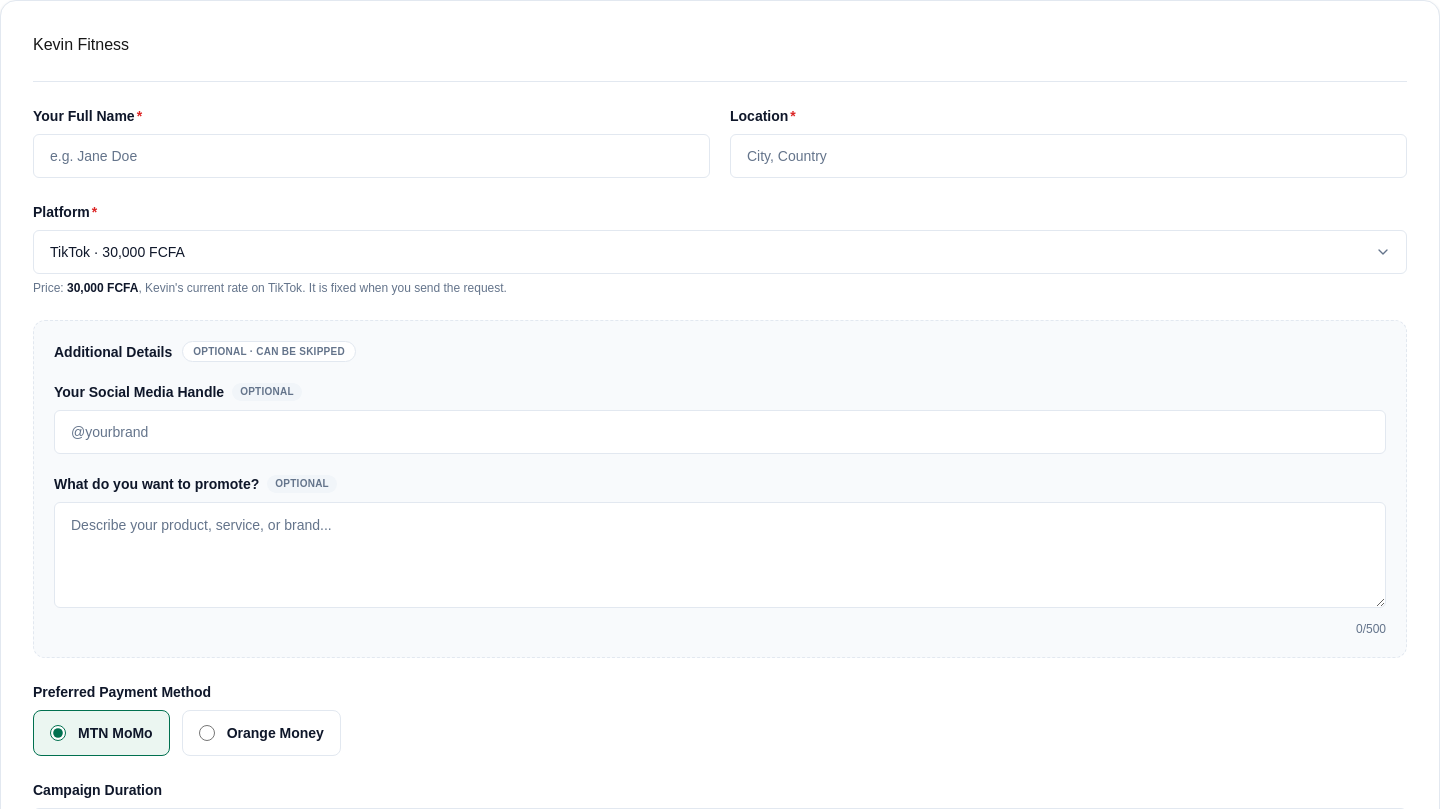
hire form › shows the price of the chosen platform and says it is fixed when sent; there is no price input
Expected: the text "current rate on TikTok" shows "30,000 FCFA", [67, 281, 138, 295]
Select "Instagram · 45,000 FCFA" in the dropdown labelled "Platform*" at point(720, 252), box [33, 230, 1407, 274]
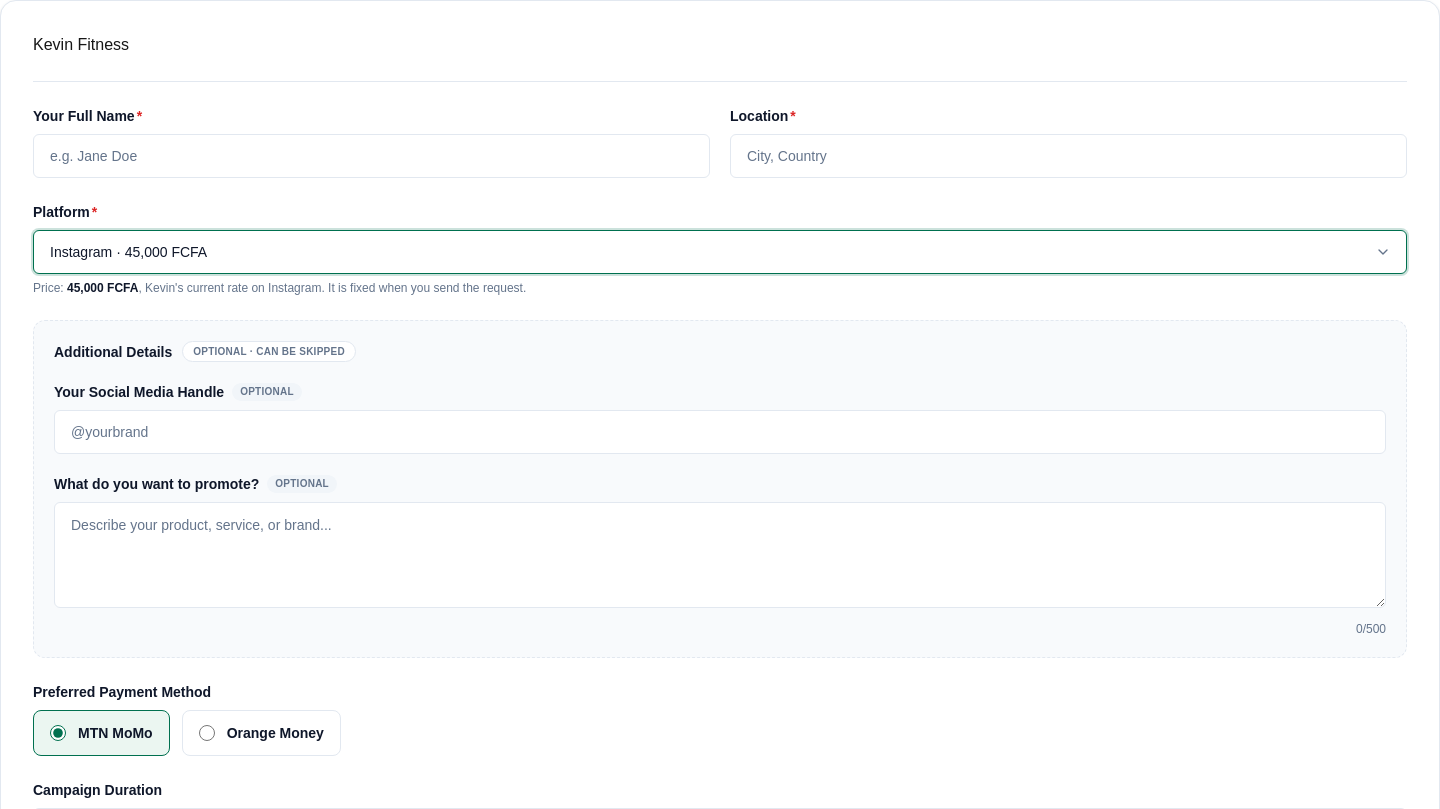
Expected: the text "current rate on Instagram" shows "45,000 FCFA", [67, 281, 138, 295]
